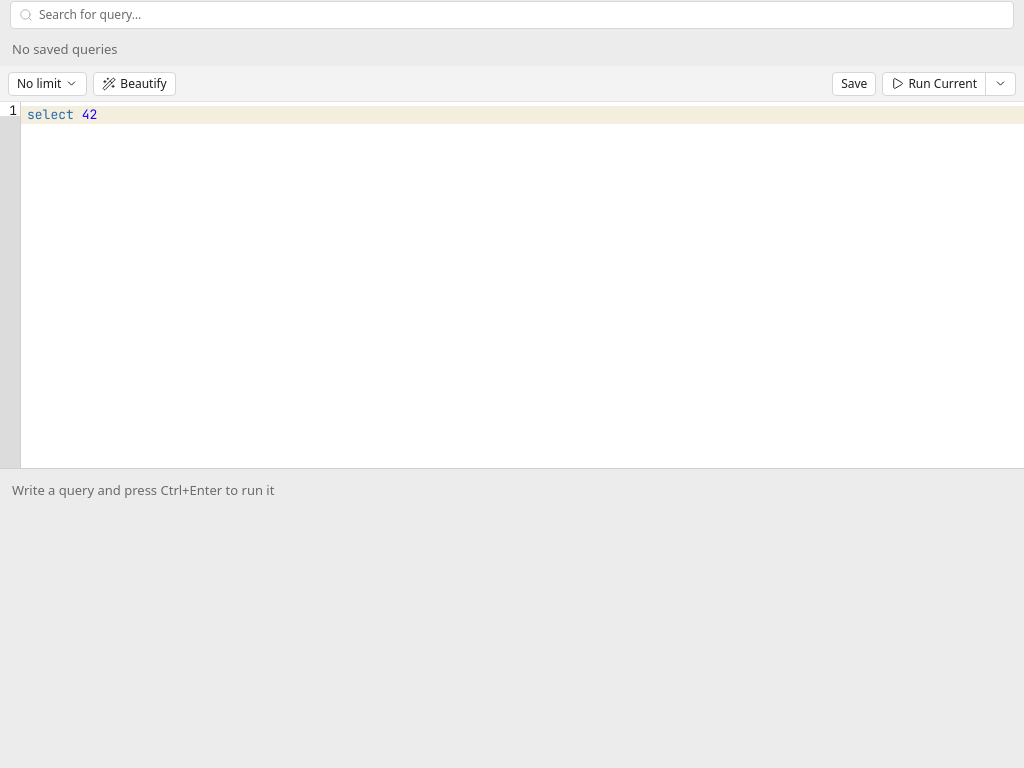
Scenario: Mod+S on an unlinked tab asks for a name, then saves and renames the tab
This screenshot has width=1024, height=768.
Press s
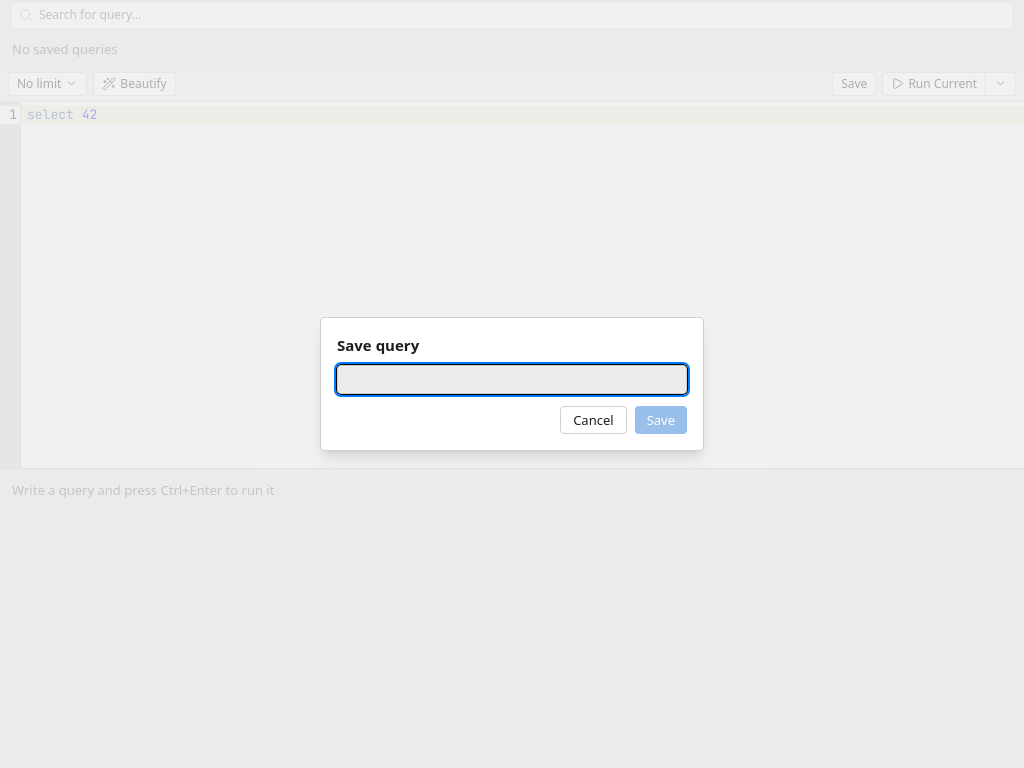
Type "answer" into the field named "Name" at [512, 380], box x1=337 y1=366 x2=687 y2=394
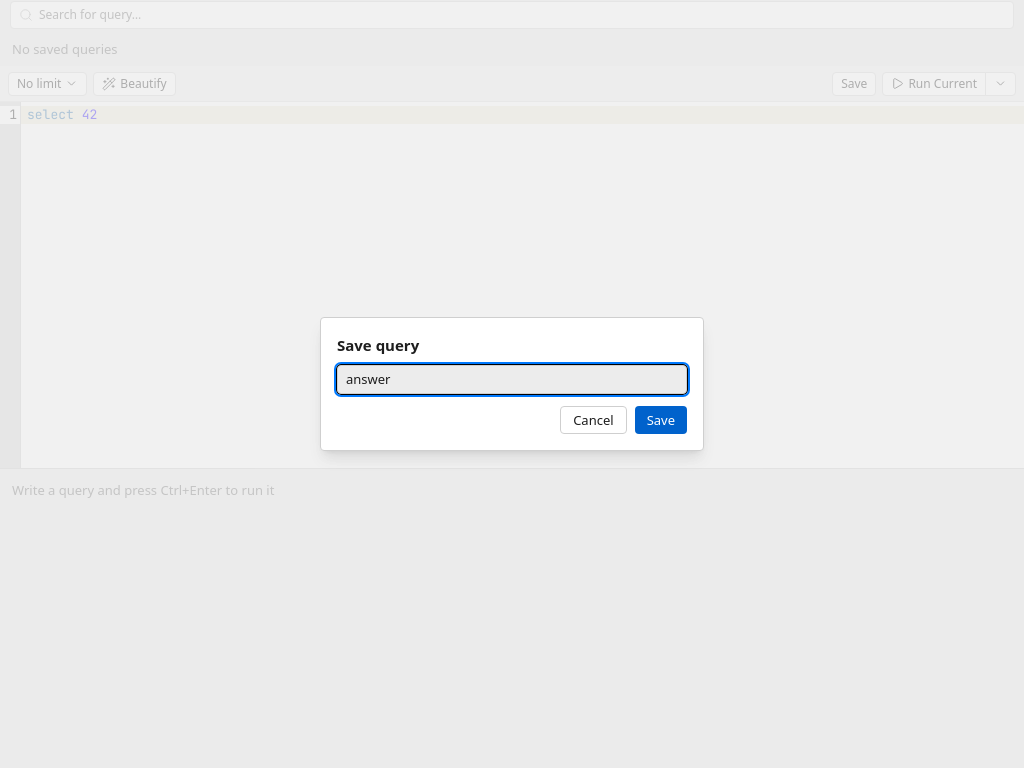
Click the button "Save" at [661, 420], box x1=635 y1=406 x2=687 y2=434
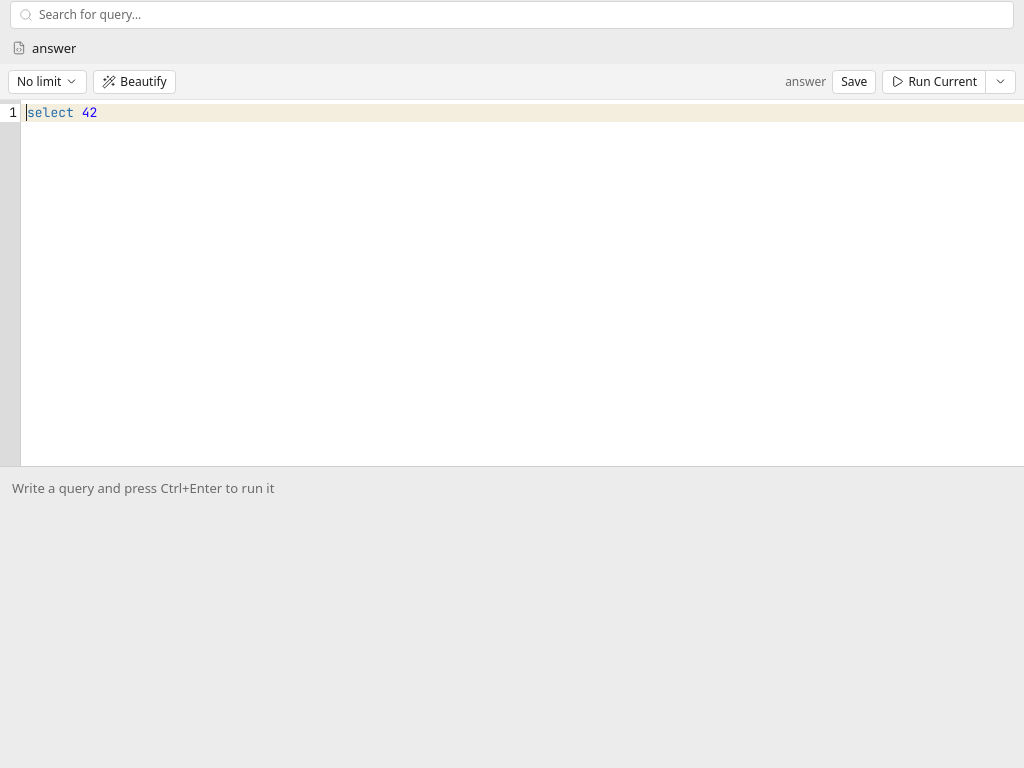
Now the dialog is gone
